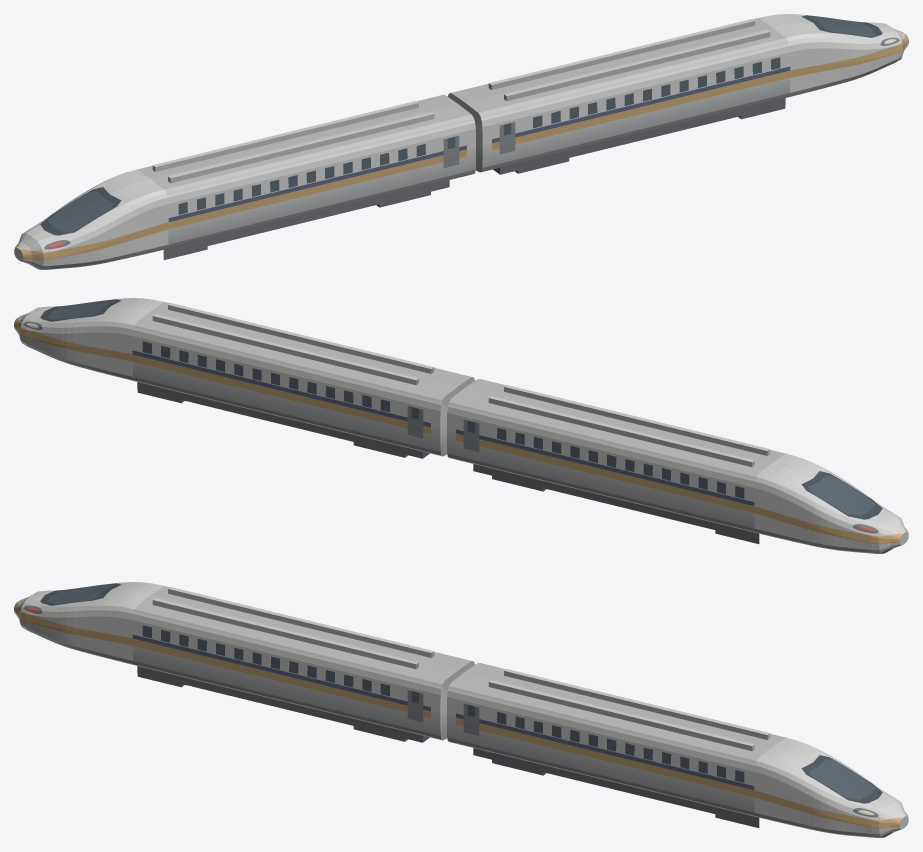
Rendered from 02_HSR_MRT_3x2-01.glb.
3 renders of one model, top to bottom at view 1: azimuth 30°, elevation 25°; view 2: azimuth 150°, elevation 25°; view 3: azimuth 330°, elevation 25°, orthographic.
Size of the model in its own units: 48.38 by 3.99 by 3.43.
